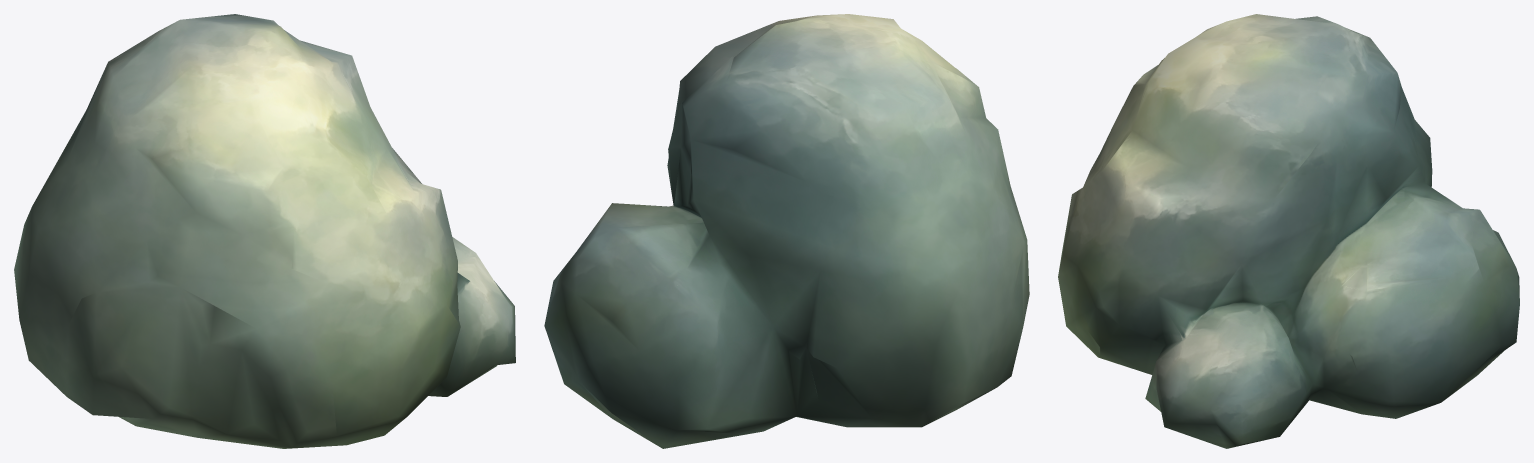
Rendered from model_raw.glb.
The picture shows the model from 3 angles, left to right: view 1: azimuth 30°, elevation 25°; view 2: azimuth 150°, elevation 25°; view 3: azimuth 270°, elevation 25°; orthographic projection. The views are drawn at different scales.
Parts seen in each view (by area): view 1: tripo_node_75dc0361-9a1b-4e94-b2e6-cf5e6ee53562; view 2: tripo_node_75dc0361-9a1b-4e94-b2e6-cf5e6ee53562; view 3: tripo_node_75dc0361-9a1b-4e94-b2e6-cf5e6ee53562.
Part boxes in pixels (x1,y1,x2,y2): tripo_node_75dc0361-9a1b-4e94-b2e6-cf5e6ee53562: [14, 14, 515, 448]; tripo_node_75dc0361-9a1b-4e94-b2e6-cf5e6ee53562: [544, 14, 1029, 448]; tripo_node_75dc0361-9a1b-4e94-b2e6-cf5e6ee53562: [1058, 14, 1519, 448].
Bounding box in the file's own units: 0.9589 × 0.7567 × 1.
Materials: 1 (1 with a texture image).
